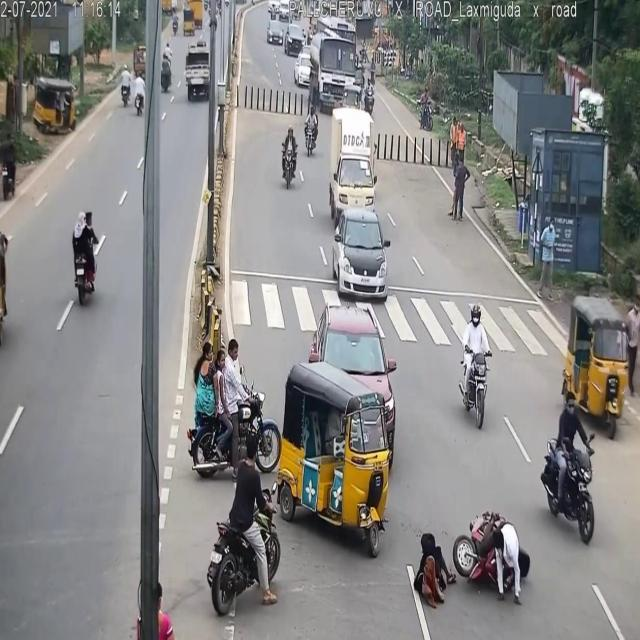accident: (408, 500, 535, 628)
non_accident: (323, 103, 389, 312), (291, 31, 372, 114), (262, 11, 306, 61), (179, 1, 207, 51)
